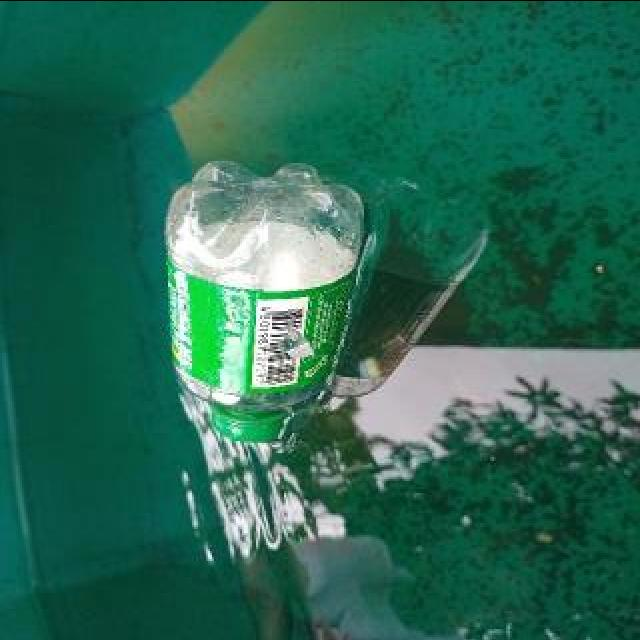Bottle: (151, 150, 375, 454)
